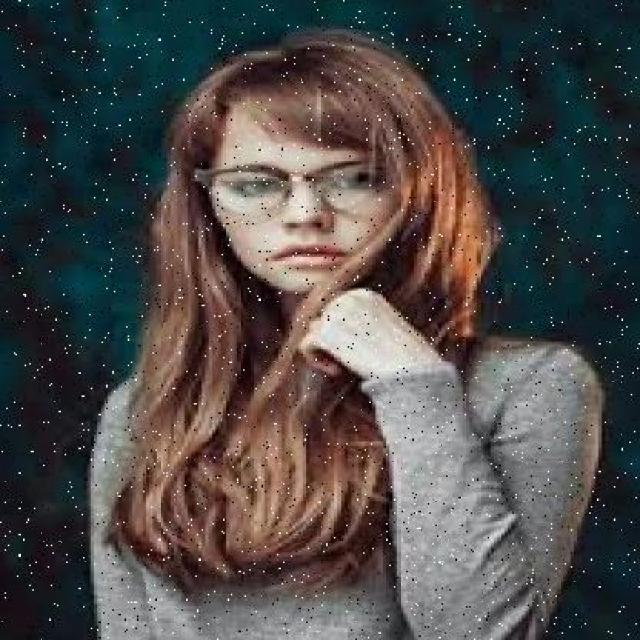glasses: (183, 144, 435, 228)
